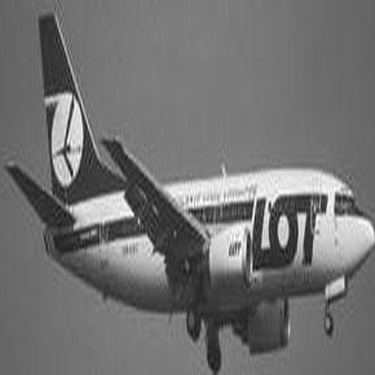airplane: (1, 5, 356, 357)
